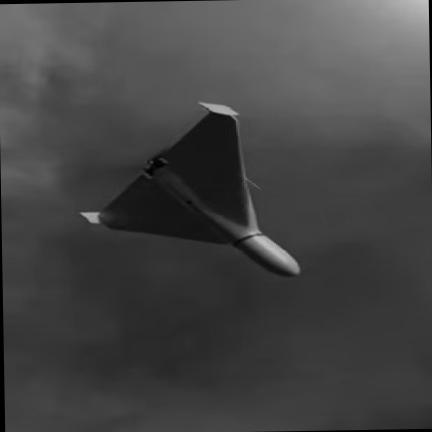Shahed: (79, 102, 299, 275)
